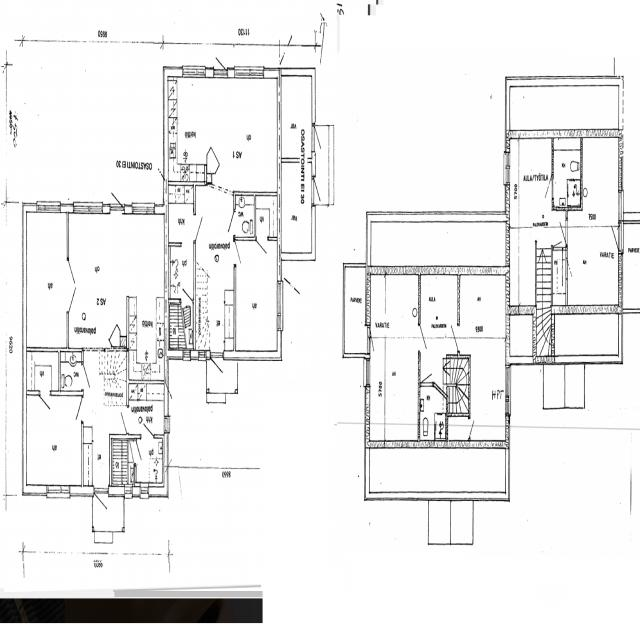door: (95, 485, 108, 524), (111, 178, 124, 213), (114, 407, 129, 433), (418, 325, 433, 351), (445, 325, 460, 351), (366, 328, 382, 352), (55, 320, 69, 345), (141, 411, 153, 439), (421, 359, 433, 387), (82, 365, 95, 389), (70, 398, 83, 422), (135, 442, 147, 464), (40, 392, 50, 418), (469, 418, 480, 438)
